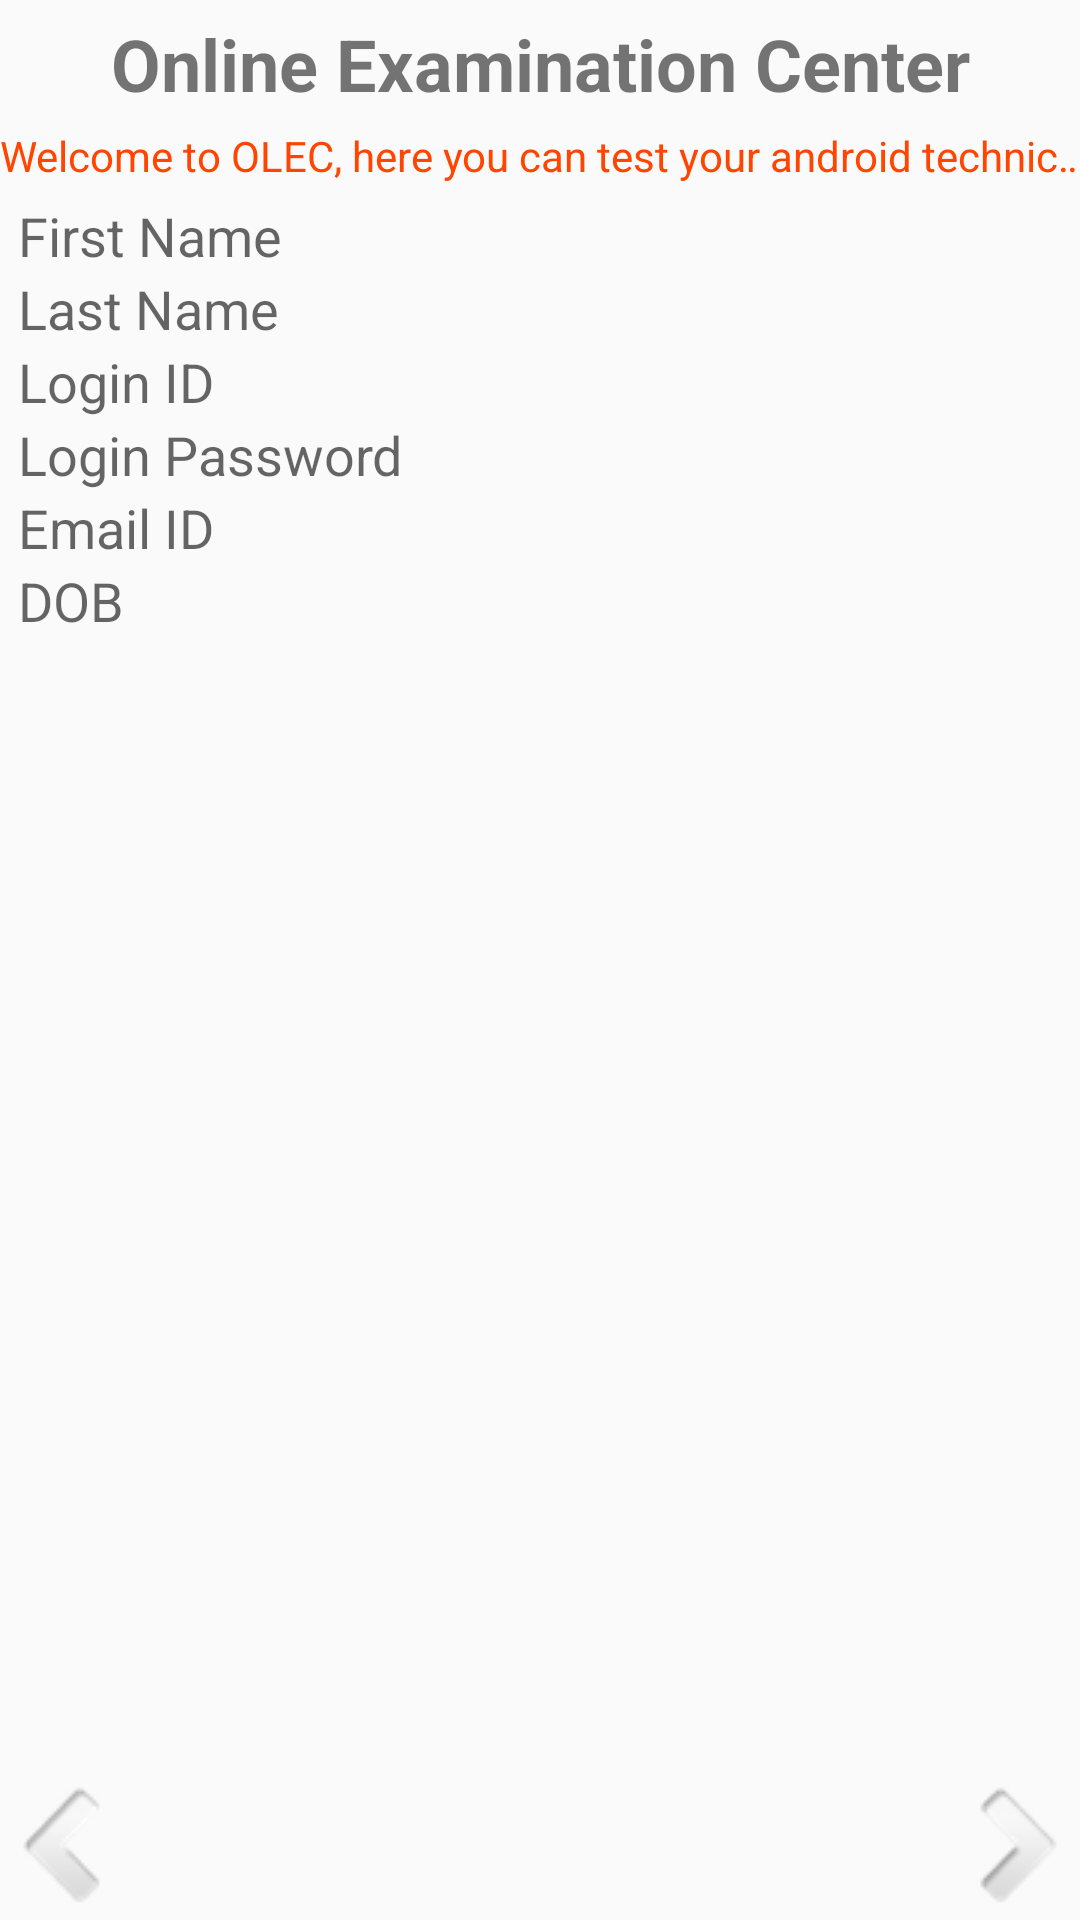

Icon click points for this 1080*1920 phone screenshot, format point (x, y):
left arrow: point (62, 1844)
right arrow: point (1017, 1843)
